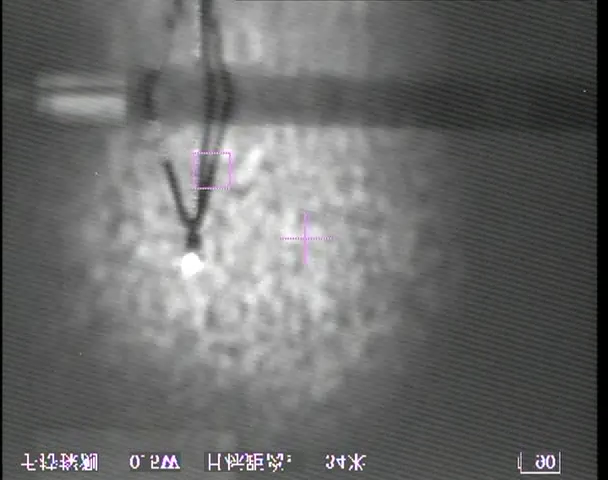my: (177, 250, 204, 278)
